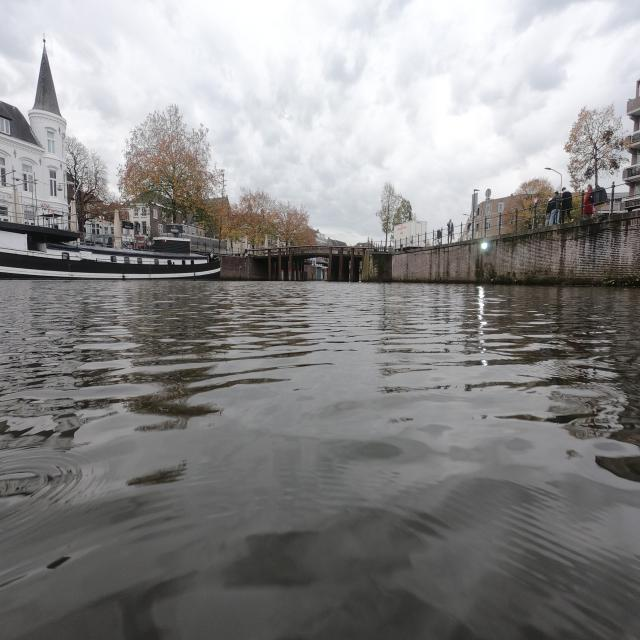boat: (0, 242, 224, 278)
sky: (4, 8, 638, 242)
tree: (118, 100, 224, 238), (234, 194, 328, 248), (376, 182, 399, 247)
wall: (380, 208, 638, 286), (222, 252, 258, 278)
water: (8, 290, 638, 634)
